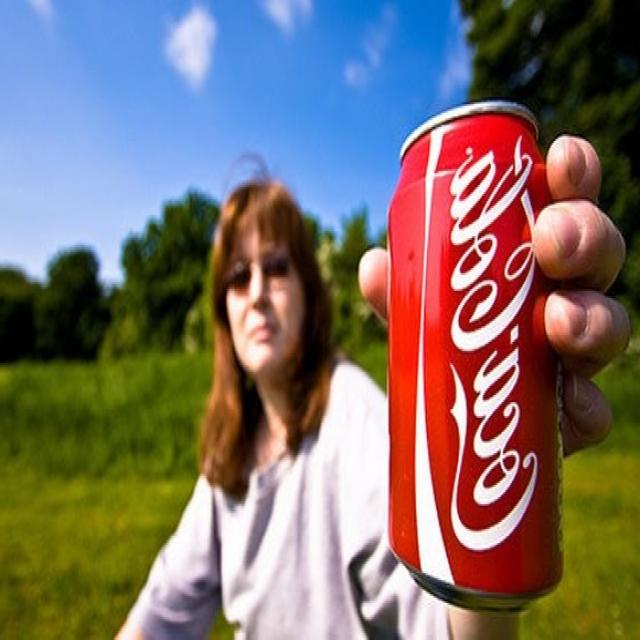coca cola: (438, 140, 540, 568)
